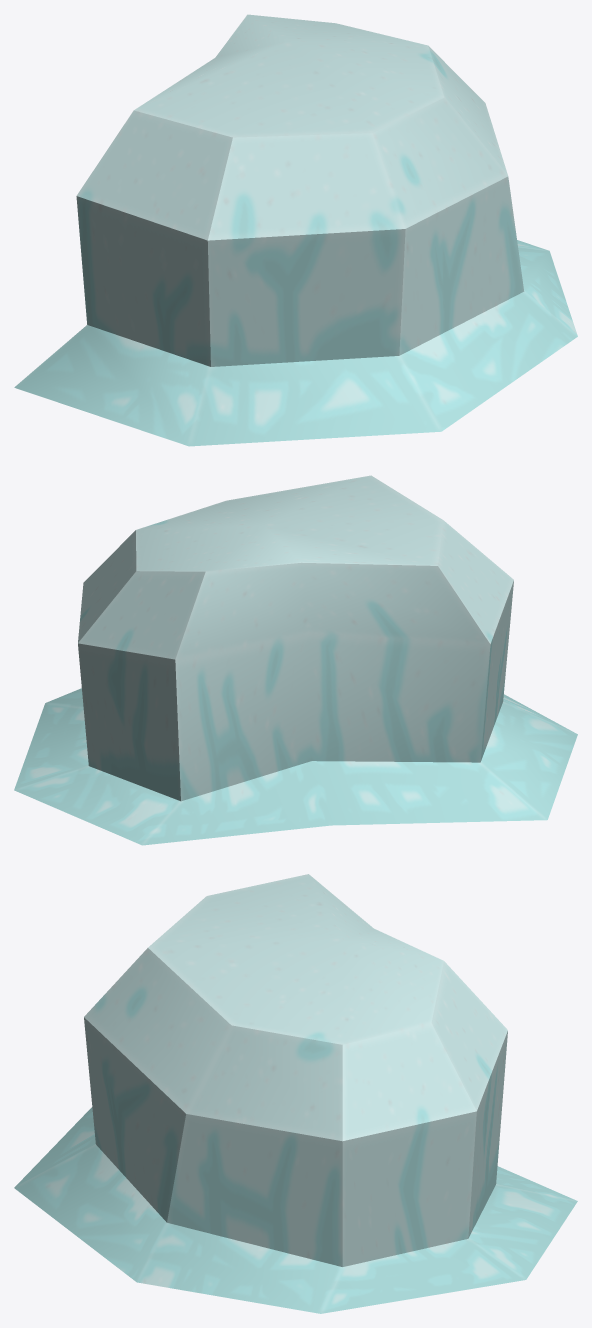
Rendered from env_Ice_Hill_A.FBX.
3 renders of one model, top to bottom at view 1: azimuth 30°, elevation 25°; view 2: azimuth 150°, elevation 25°; view 3: azimuth 270°, elevation 25°, orthographic. The views are drawn at different scales.
Visible parts, largest first — view 1: env_Ice_Hill_A; view 2: env_Ice_Hill_A; view 3: env_Ice_Hill_A.
Boxes of the visible parts, left/top/right/bottom form: env_Ice_Hill_A: left=14, top=14, right=577, bottom=446; env_Ice_Hill_A: left=14, top=475, right=577, bottom=845; env_Ice_Hill_A: left=14, top=874, right=577, bottom=1313.
Bounding box in the file's own units: 1619 × 750 × 1506.
